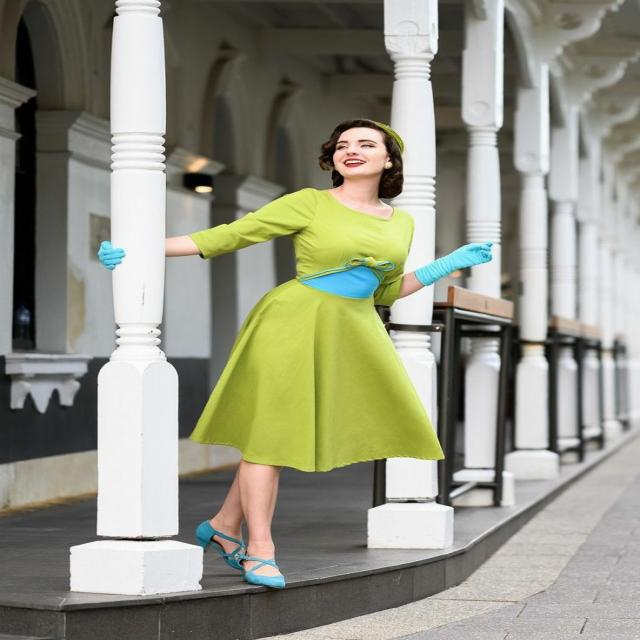female-dress: (200, 190, 457, 472)
